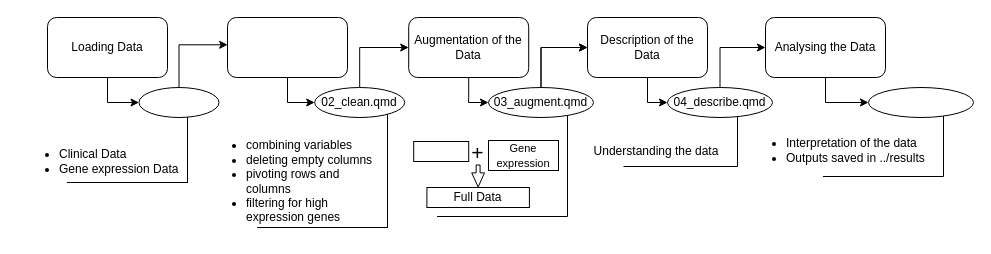
Some shapes in this 991 by 254 pixel diagram are drawn without their labels. The centre of each missing label's shape, as x and y in pixels:
"01_load.qmd" belongs at [178,102].
"05_analysisX.qmd" belongs at [921,102].
"Cleaning Data" belongs at [287,47].
"Clinical" belongs at [441,151].
